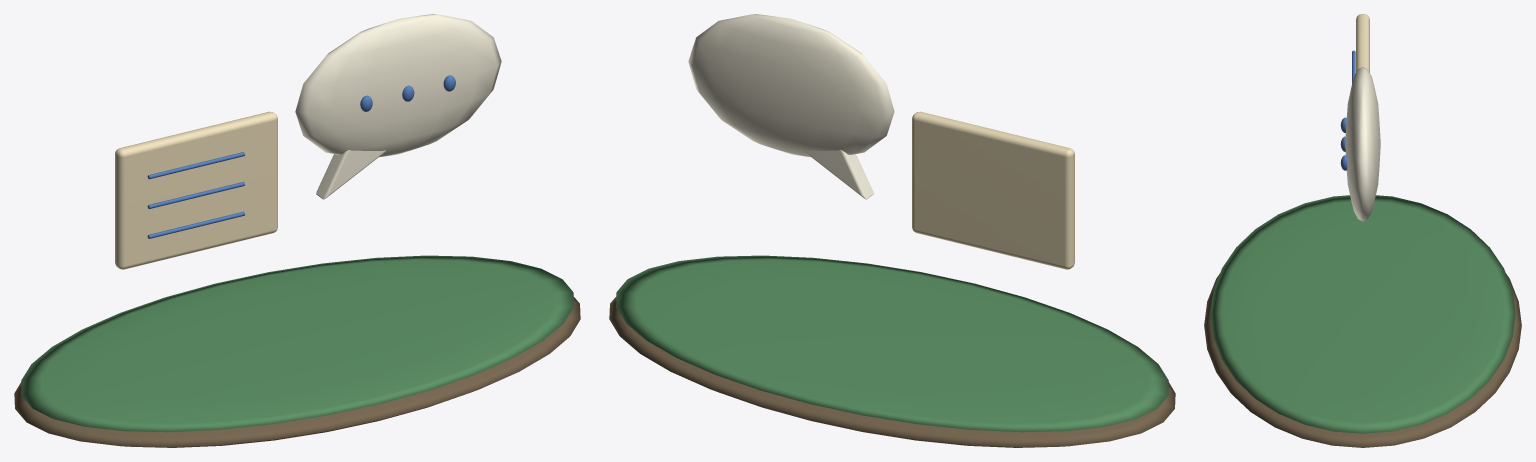
File: word-expression.glb
The picture shows the model from 3 angles, left to right: view 1: azimuth 30°, elevation 25°; view 2: azimuth 150°, elevation 25°; view 3: azimuth 270°, elevation 25°; orthographic projection. The views are drawn at different scales.
Parts seen in each view (by area): view 1: word-expression_surface_01, word-expression_surface_04, word-expression_surface_02, word-expression_surface_00, word-expression_surface_03; view 2: word-expression_surface_01, word-expression_surface_04, word-expression_surface_02, word-expression_surface_00; view 3: word-expression_surface_01, word-expression_surface_00, word-expression_surface_04, word-expression_surface_02, word-expression_surface_03.
Part boxes in pixels (x1,y1,x2,y2): word-expression_surface_01: (21, 255, 573, 432); word-expression_surface_04: (295, 14, 501, 199); word-expression_surface_02: (115, 111, 277, 269); word-expression_surface_00: (14, 297, 580, 447); word-expression_surface_03: (147, 75, 455, 238); word-expression_surface_01: (616, 255, 1168, 432); word-expression_surface_04: (688, 14, 894, 199); word-expression_surface_02: (912, 111, 1074, 269); word-expression_surface_00: (609, 297, 1175, 447); word-expression_surface_01: (1210, 195, 1515, 433); word-expression_surface_00: (1204, 273, 1521, 447); word-expression_surface_04: (1345, 67, 1380, 221); word-expression_surface_02: (1356, 14, 1369, 72); word-expression_surface_03: (1340, 50, 1355, 170).
Size of the model in its own units: 4.56 by 2.65 by 2.5.
